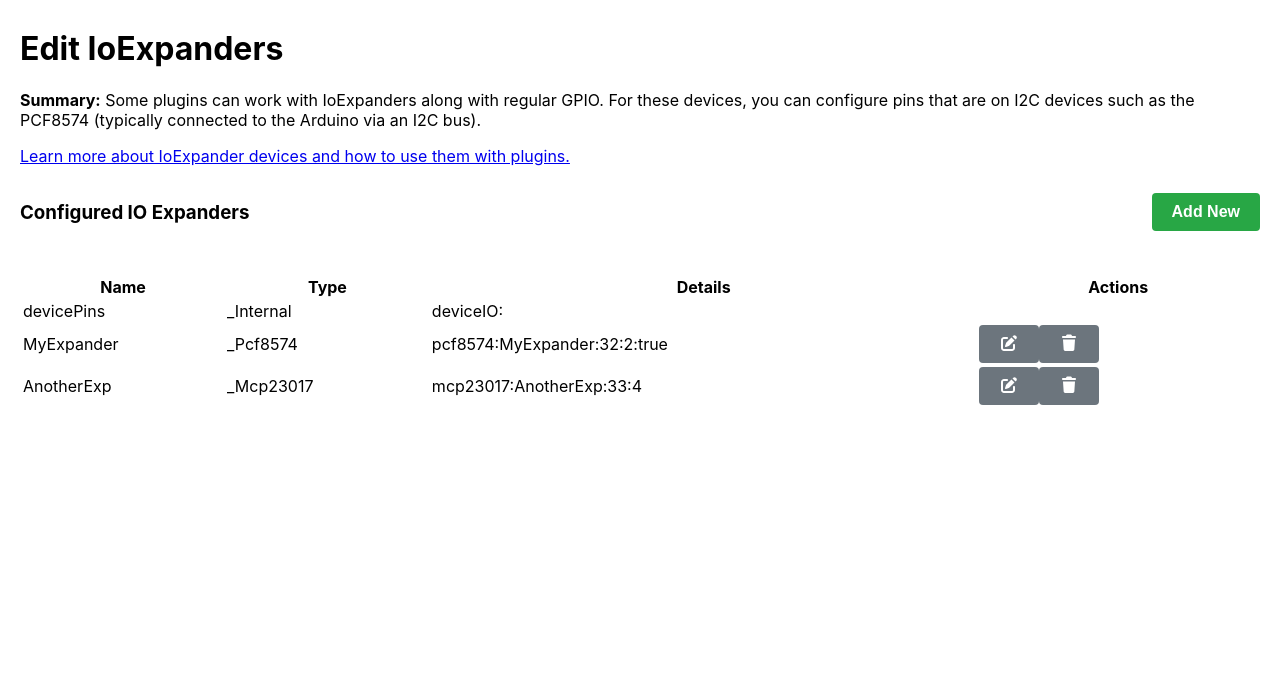
Scenario: IoExpanderComponent › disallows duplicate names
Click the button "Add New": (1206, 212) x1=1152 y1=193 x2=1260 y2=231
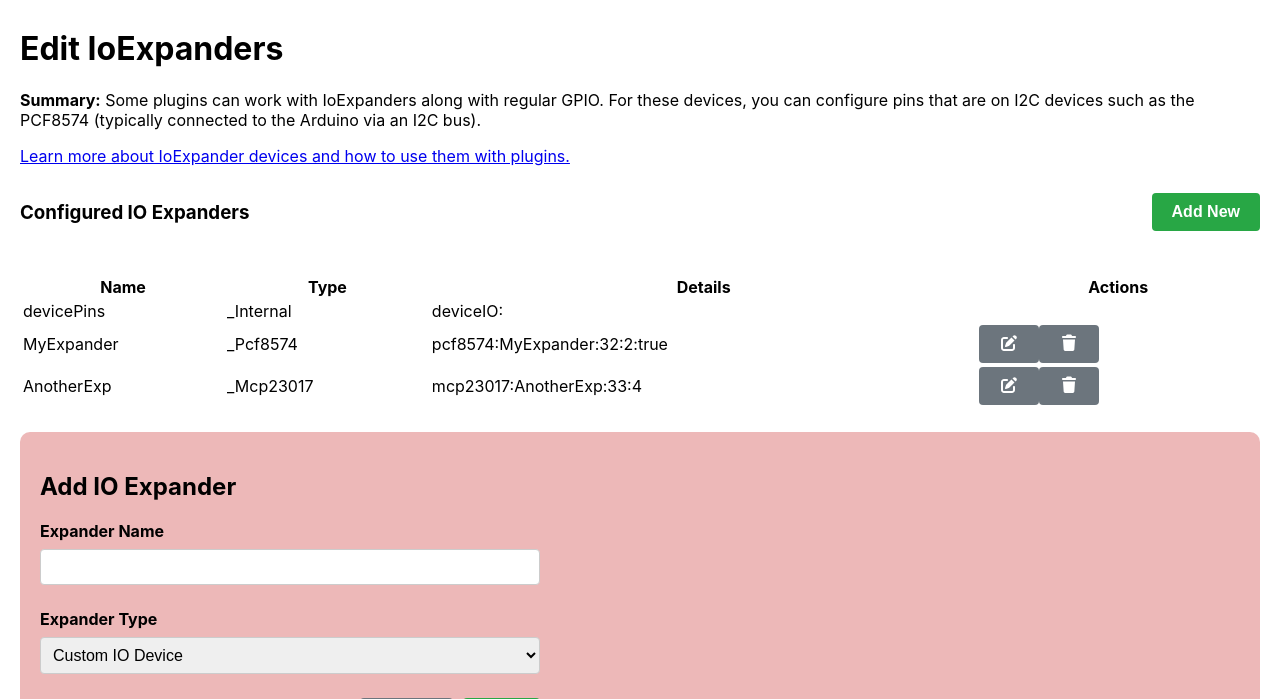
In the field labelled "Expander Name": (290, 567) x1=40 y1=549 x2=540 y2=585, type "MyExpander"
(page scrolled)
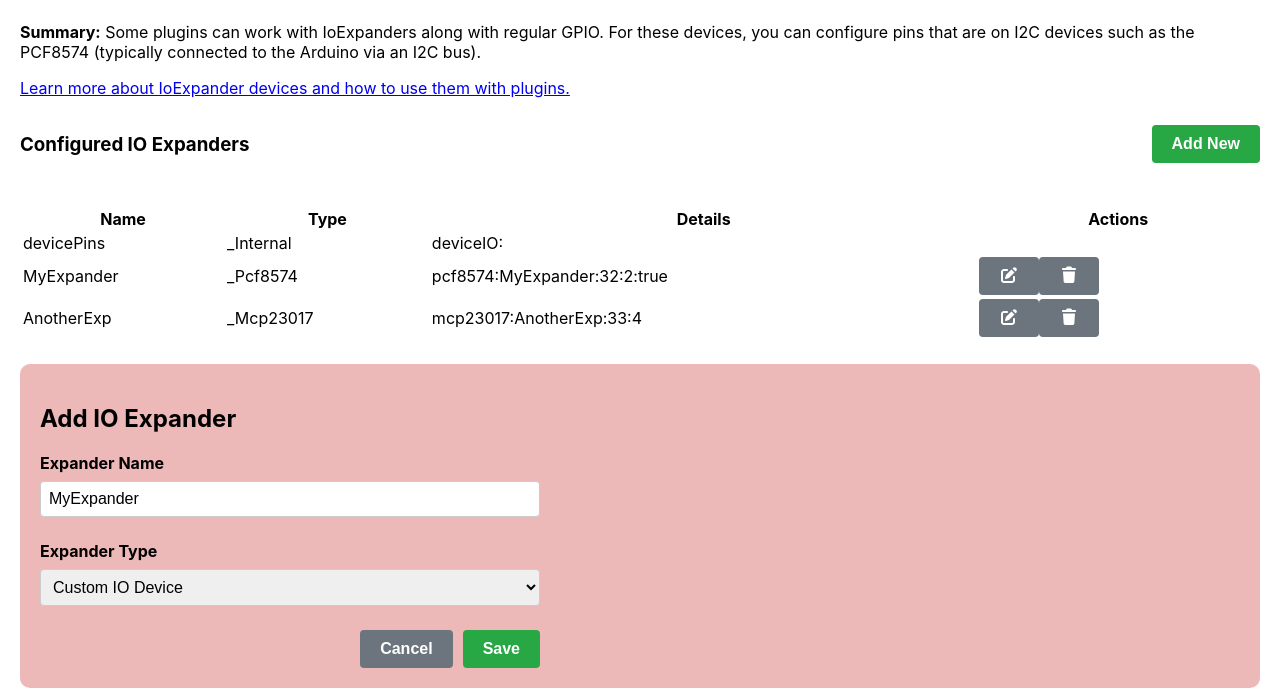
Click the button "Save": (501, 649) x1=463 y1=630 x2=540 y2=668
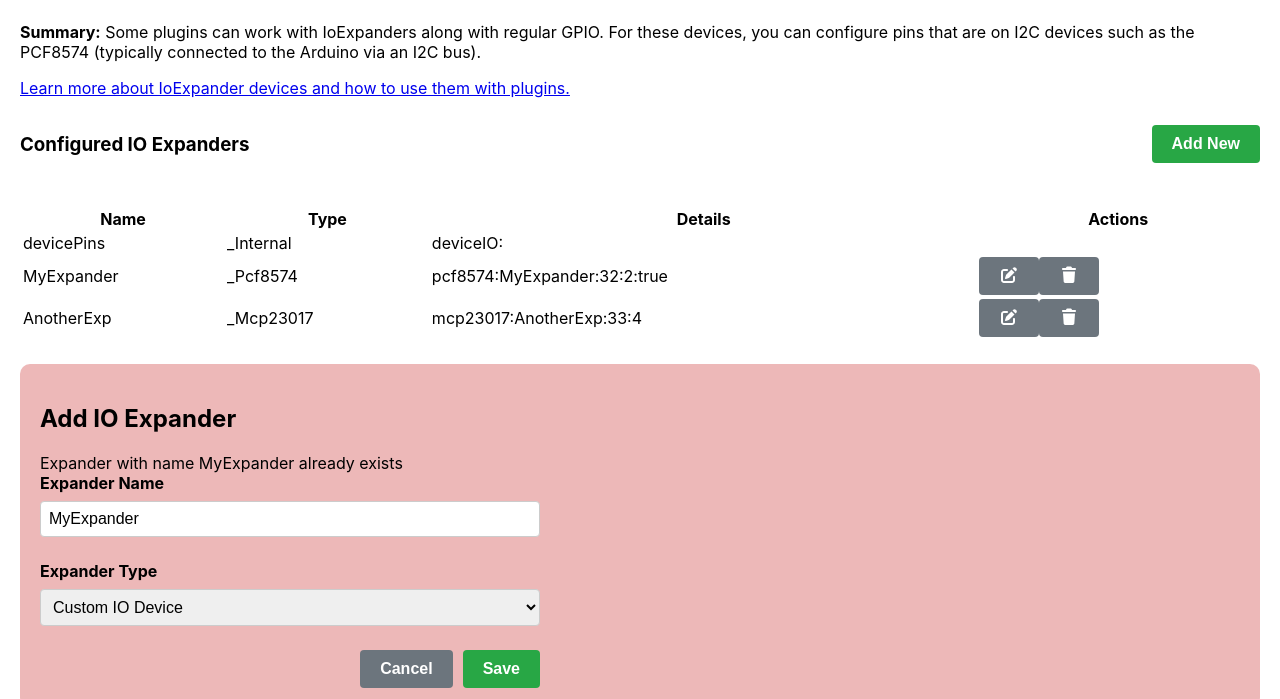
Now the text "Expander with name MyExpander already exists" is shown, box x1=40 y1=453 x2=403 y2=473
